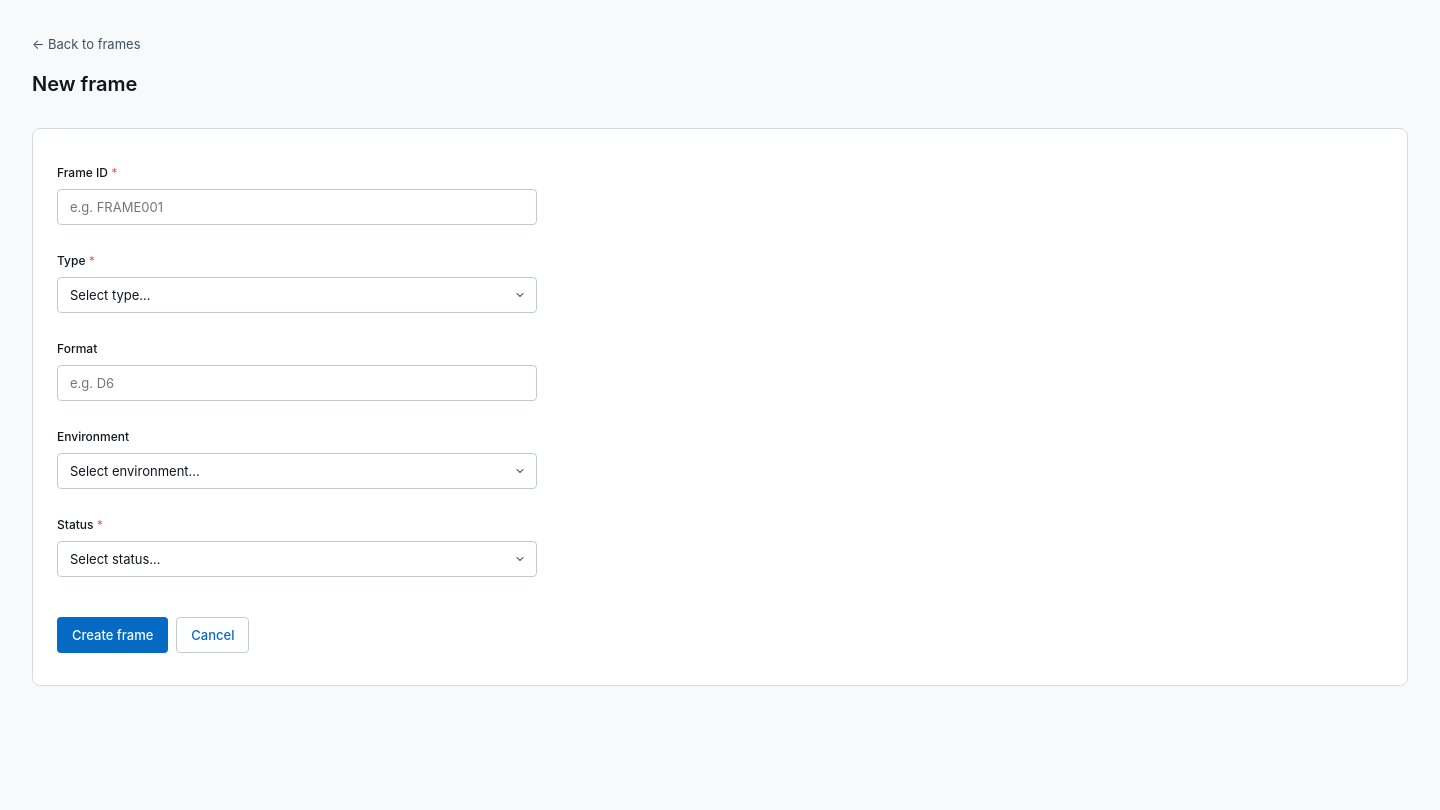
FrameFormPage › Create mode › shows validation error when required fields missing
Step 1. Click the button "Create frame" → [113, 635], box left=57, top=617, right=168, bottom=653
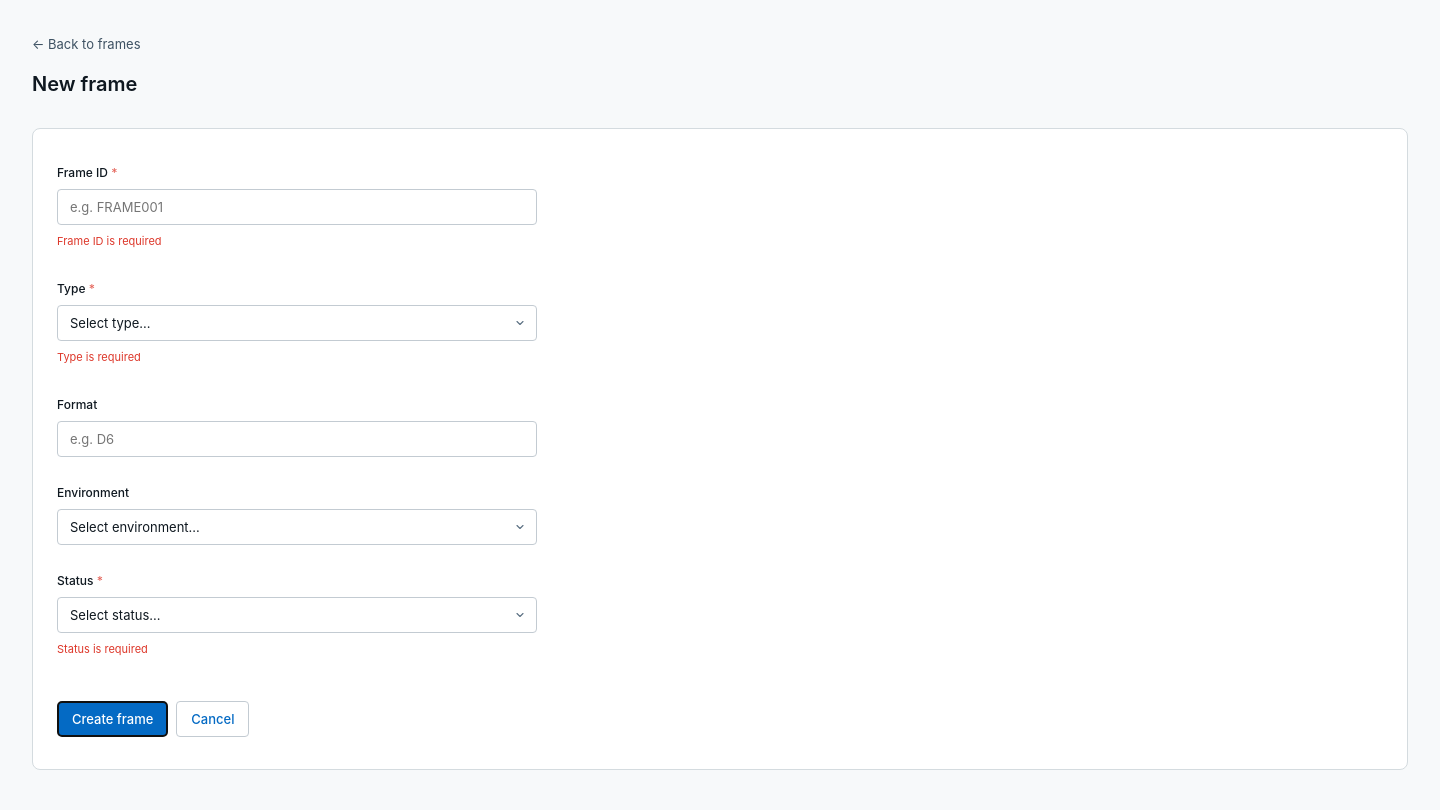
Expected: the text "Frame ID is required" is shown, left=57, top=234, right=162, bottom=248
Expected: the text "Type is required" is shown, left=57, top=350, right=141, bottom=364
Expected: the text "Status is required" is shown, left=57, top=642, right=148, bottom=656
